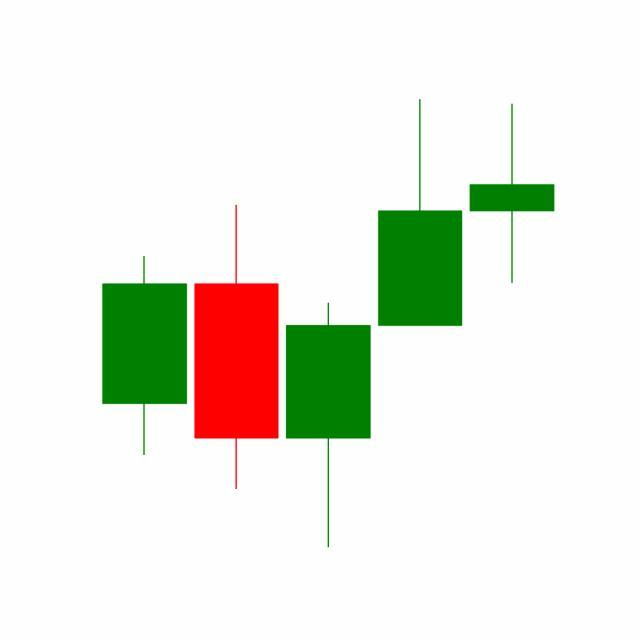Spinning Top: (466, 102, 559, 286)
